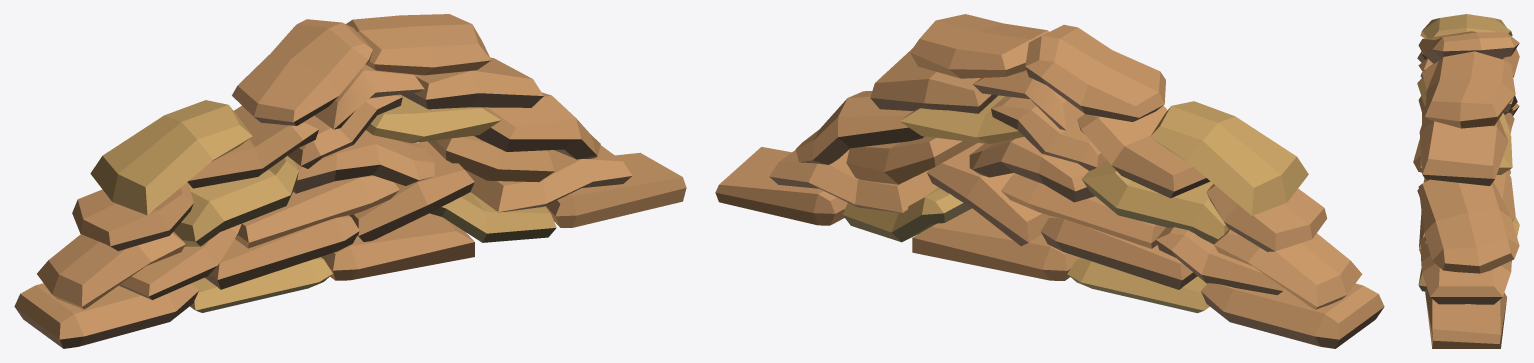
File: perk_bag_tall.fbx
3 renders of one model, left to right at view 1: azimuth 30°, elevation 25°; view 2: azimuth 150°, elevation 25°; view 3: azimuth 270°, elevation 25°, orthographic. The views are drawn at different scales.
Parts seen in each view (by area): view 1: PotatoBags; view 2: PotatoBags; view 3: PotatoBags.
Boxes of the visible parts, x1,y1,x2,y2 form: PotatoBags: (14,14,686,348); PotatoBags: (715,14,1384,348); PotatoBags: (1413,14,1519,348).
Size of the model in its own units: 4.18 by 1.48 by 0.7603.
